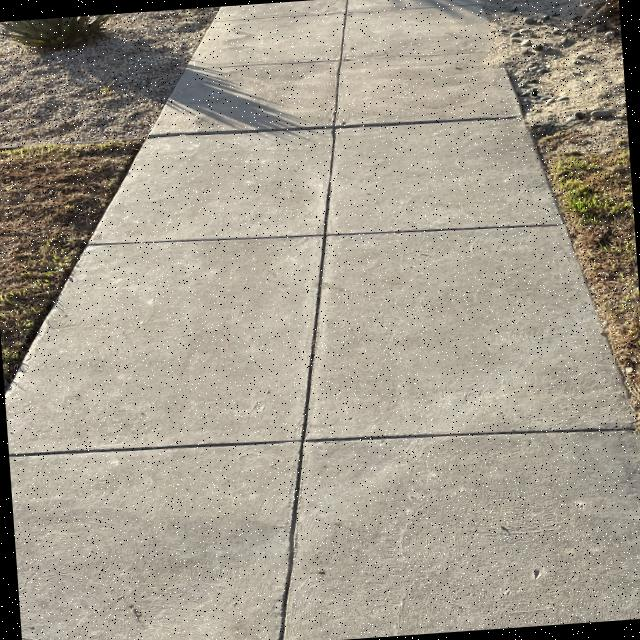walkway: (33, 378, 640, 640), (82, 207, 574, 453), (155, 95, 533, 312), (210, 0, 493, 174), (254, 0, 487, 96)
walkway-edge: (472, 9, 638, 412), (83, 86, 178, 268), (26, 236, 96, 364), (156, 7, 228, 122)
